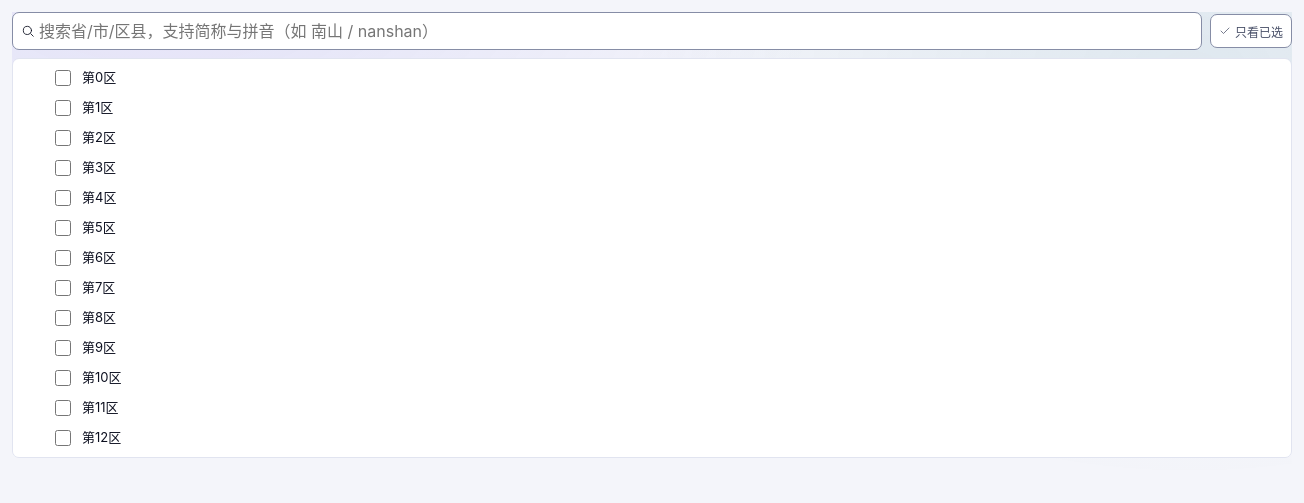
DistrictTree · 搜索（树内就地过滤） › 命中过多给截断提示
The width and height of the screenshot is (1304, 503).
Type "区" into the search field with test id "district-search" at x=616, y=31, box [39, 17, 1193, 45]
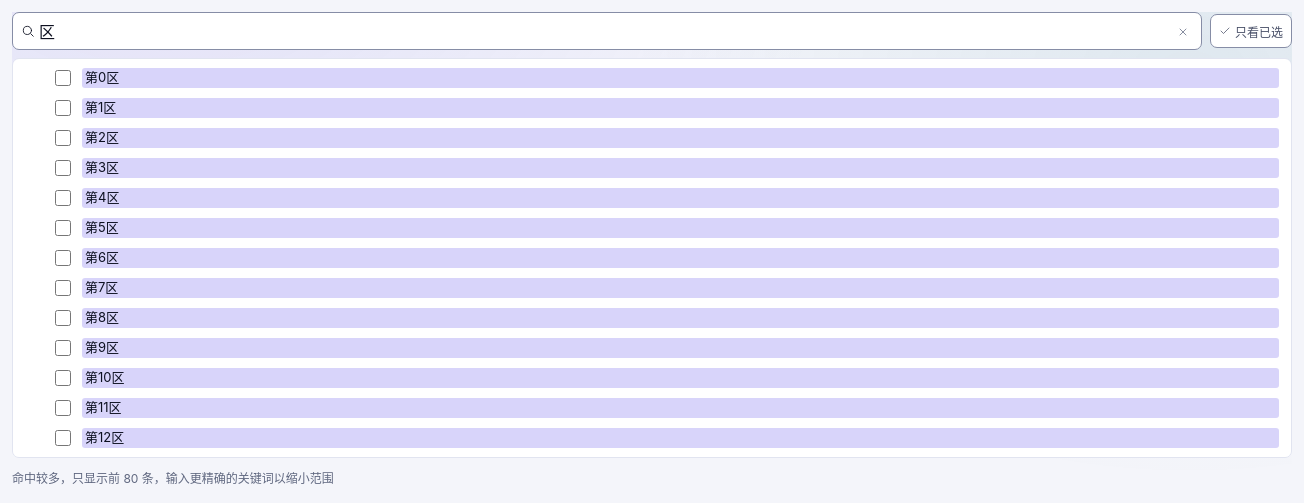
Expected: the text "命中较多，只显示前 80 条，输入更精确的关键词以缩小范围" is shown, [12, 471, 334, 486]
